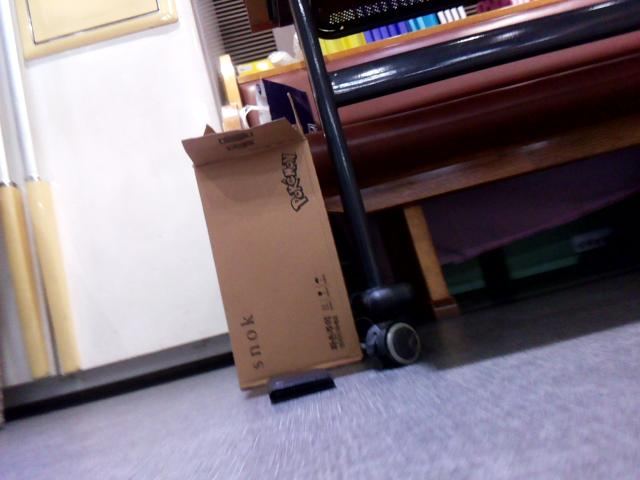wallet: (257, 364, 341, 405)
